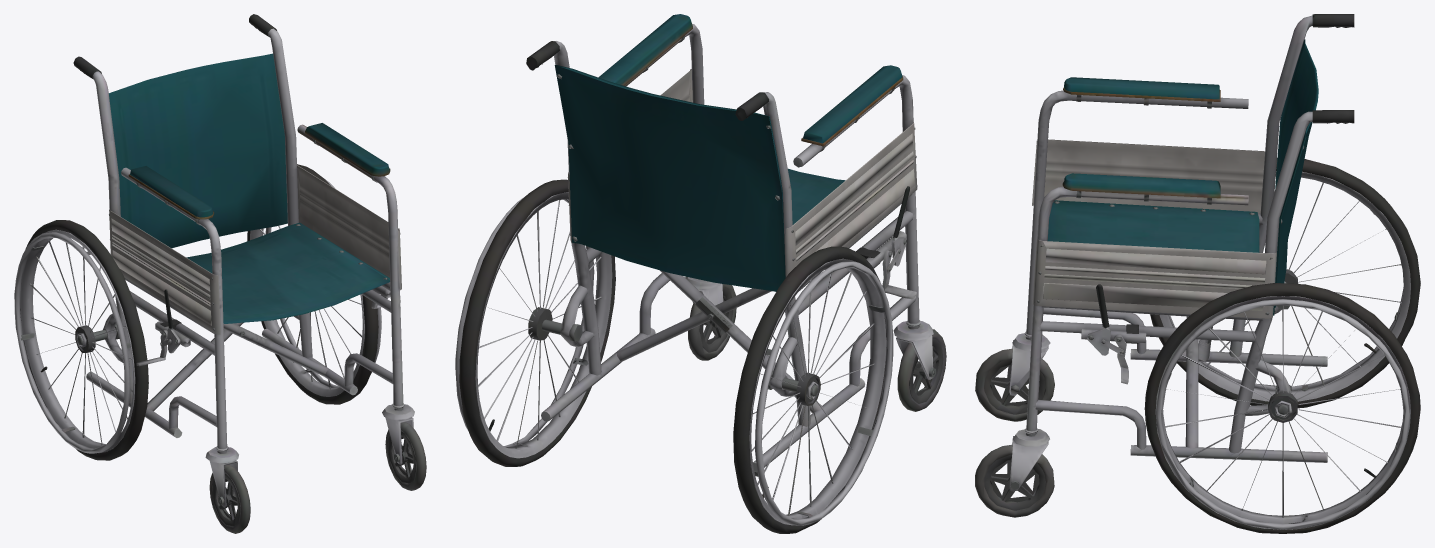
The model's file is wheelchair_01.glb.
The picture shows the model from 3 angles, left to right: view 1: azimuth 30°, elevation 25°; view 2: azimuth 150°, elevation 25°; view 3: azimuth 270°, elevation 25°; orthographic projection. The views are drawn at different scales.
Visible parts, largest first — view 1: wheelchair_01; view 2: wheelchair_01; view 3: wheelchair_01.
Boxes of the visible parts, x1,y1,x2,y2 form: wheelchair_01: [14, 14, 426, 533]; wheelchair_01: [455, 14, 946, 533]; wheelchair_01: [975, 14, 1420, 533].
Size of the model in its own units: 0.8241 by 1.1 by 1.09.
Materials: 1 (1 with a texture image).
